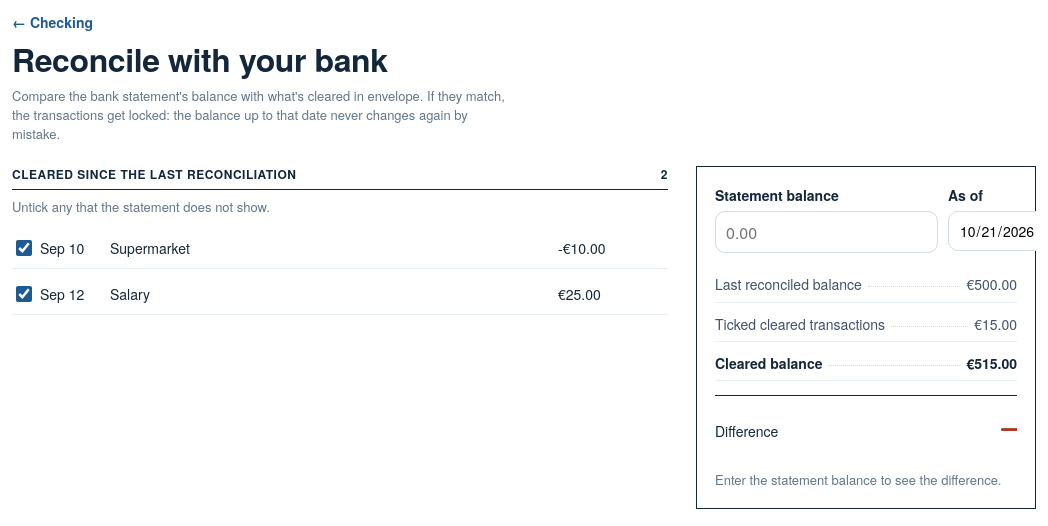
ReconciliationScreen (#60) › unticking a cleared transaction removes it from the tally
Expected: the link "← Checking" is shown, [12,12,93,32]
Click the checkbox labelled "Sep 10 Supermarket -€10.00".
click(24, 248)  # box [16,240,32,256]
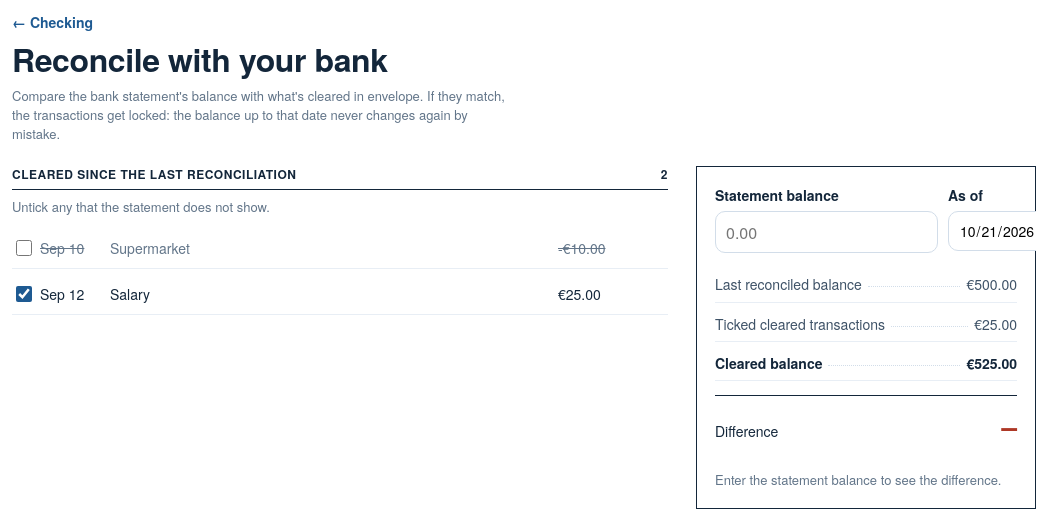
Expected: the text "€525.00" is shown, [966,353,1017,373]
